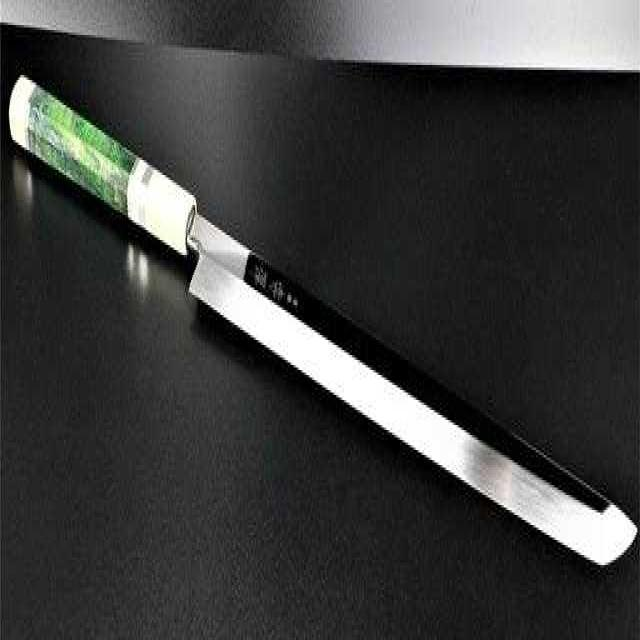Knife: (5, 70, 640, 598)
